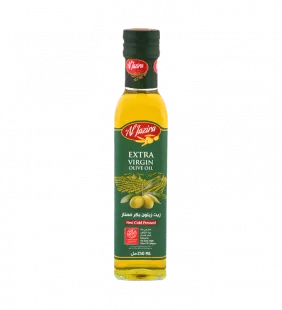MARASCA JAZIRA: (107, 20, 179, 291)
